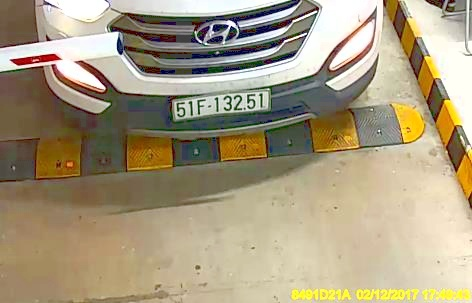plate: (170, 90, 273, 120)
